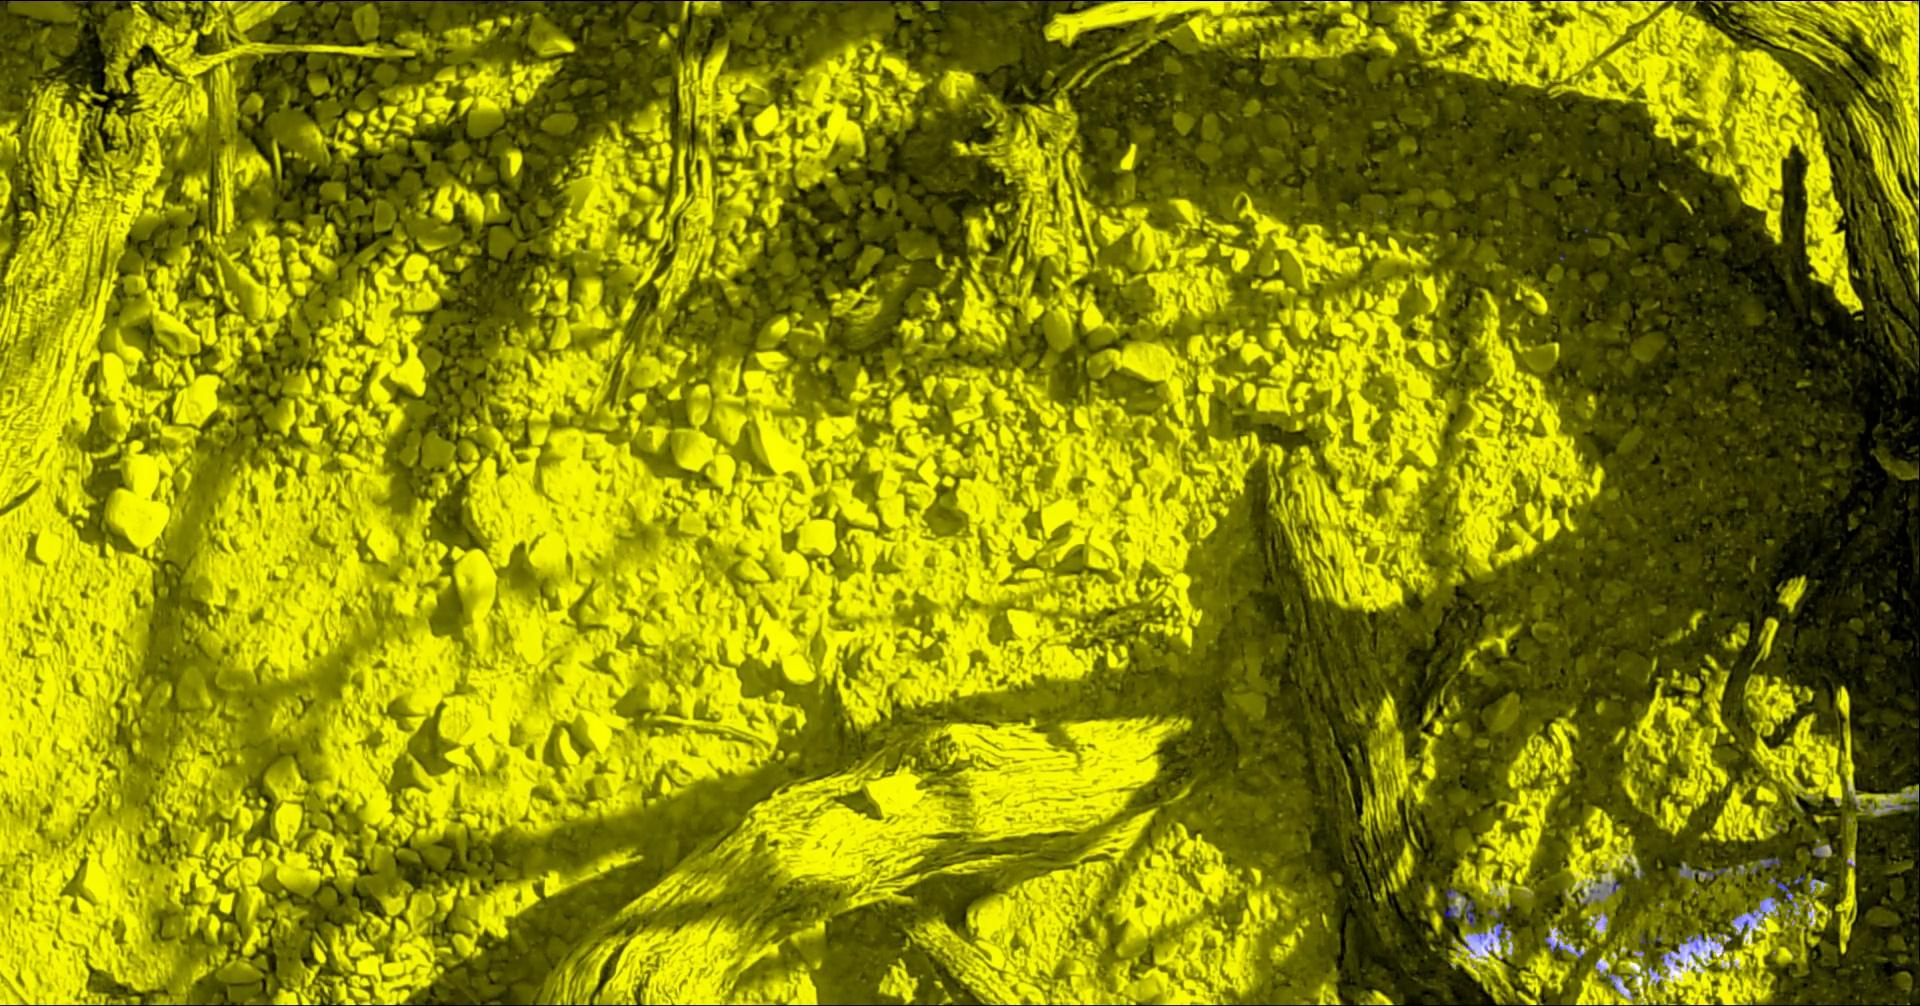ant: (1443, 895, 1477, 926), (1773, 875, 1807, 902), (1752, 857, 1782, 873), (1695, 868, 1728, 879), (770, 0, 891, 1), (377, 0, 477, 1), (961, 0, 1037, 1)
